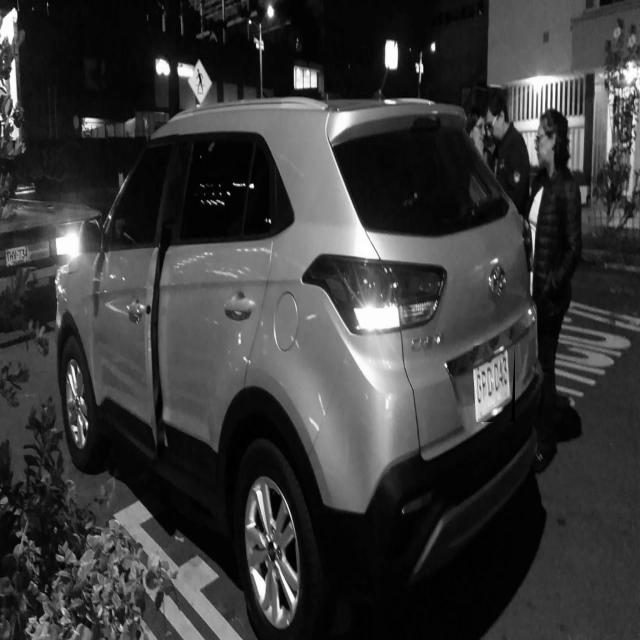plate: (473, 346, 513, 422)
